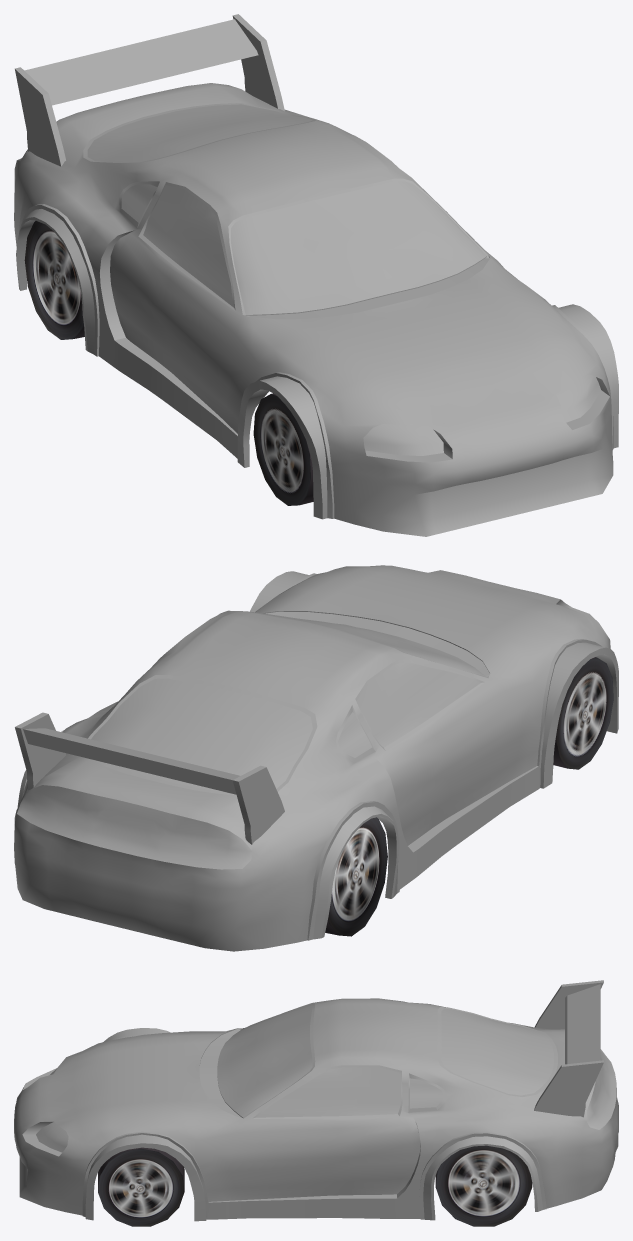
The model's file is Car_Test_UVs_Goncalo.fbx.
The picture shows the model from 3 angles, top to bottom: view 1: azimuth 30°, elevation 25°; view 2: azimuth 150°, elevation 25°; view 3: azimuth 270°, elevation 25°; orthographic projection. The views are drawn at different scales.
Parts seen in each view (by area): view 1: test_car_forUV_02:headusOBJexport, backLeftWheel1, frontRightWheel; view 2: test_car_forUV_02:headusOBJexport, backLeftWheel1, frontRightWheel; view 3: test_car_forUV_02:headusOBJexport, backLeftWheel, frontLeftWheel.
Boxes of the visible parts, x1,y1,x2,y2 form: test_car_forUV_02:headusOBJexport: (14,14,618,536); backLeftWheel1: (24,221,84,339); frontRightWheel: (253,393,313,505); test_car_forUV_02:headusOBJexport: (14,565,618,951); backLeftWheel1: (325,817,387,936); frontRightWheel: (553,657,613,769); test_car_forUV_02:headusOBJexport: (14,980,618,1221); backLeftWheel: (435,1145,532,1226); frontLeftWheel: (98,1147,184,1226).
Size of the model in its own units: 12.49 by 7.56 by 27.27.
